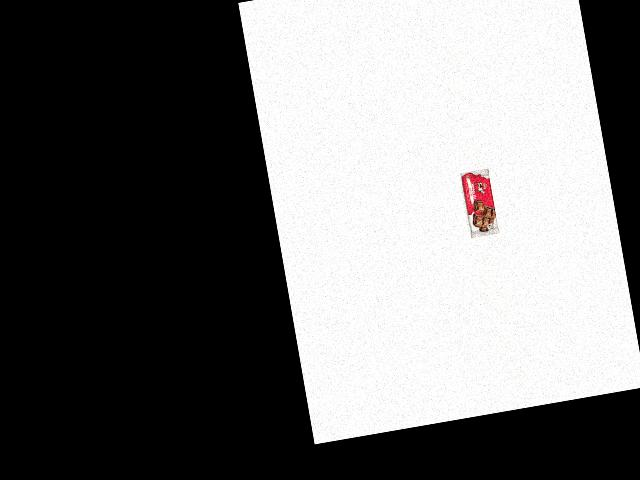chocolate: (442, 158, 496, 242)
